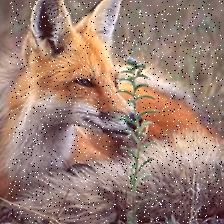fox: (9, 1, 223, 224)
